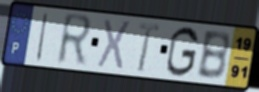B: (195, 30, 231, 82)
G: (164, 25, 201, 79)
I: (34, 11, 51, 63)
R: (55, 12, 95, 69)
T: (136, 20, 162, 74)
X: (95, 17, 133, 73)
